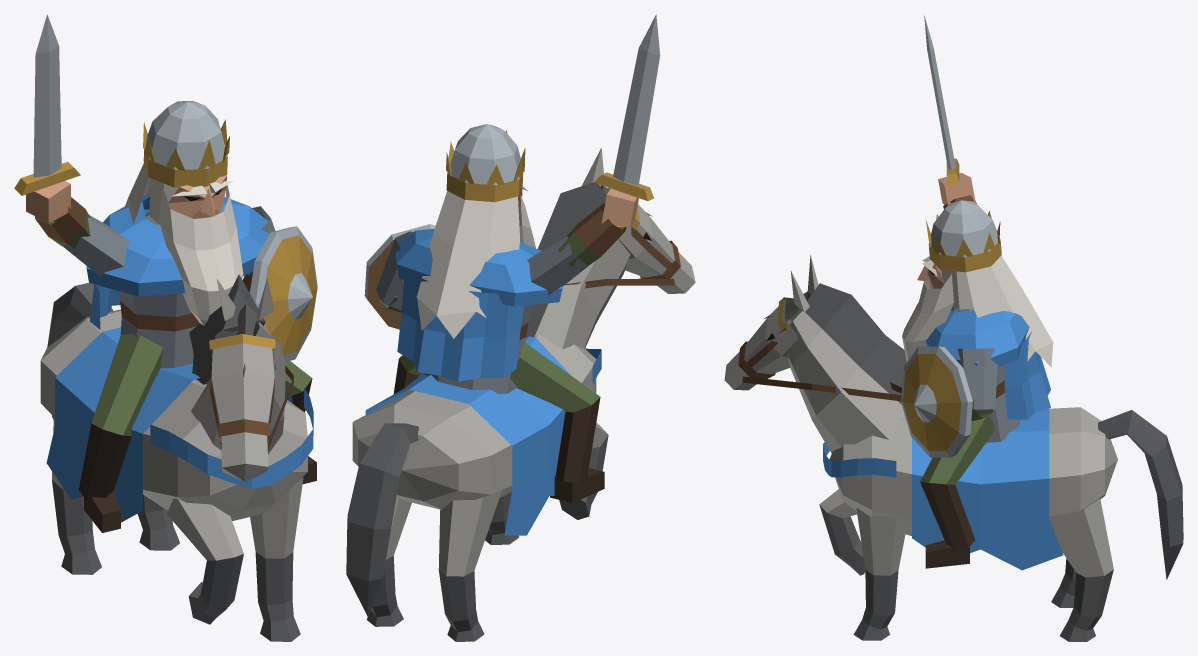
Rendered from theoden.glb.
3 renders of one model, left to right at view 1: azimuth 30°, elevation 25°; view 2: azimuth 150°, elevation 25°; view 3: azimuth 270°, elevation 25°, orthographic. The views are drawn at different scales.
Visible parts, largest first — view 1: theoden; view 2: theoden; view 3: theoden.
Part boxes in pixels (x1,y1,x2,y2): theoden: [14, 14, 317, 641]; theoden: [346, 14, 695, 641]; theoden: [724, 15, 1183, 641].
Size of the model in its own units: 1.03 by 2.08 by 1.6.
